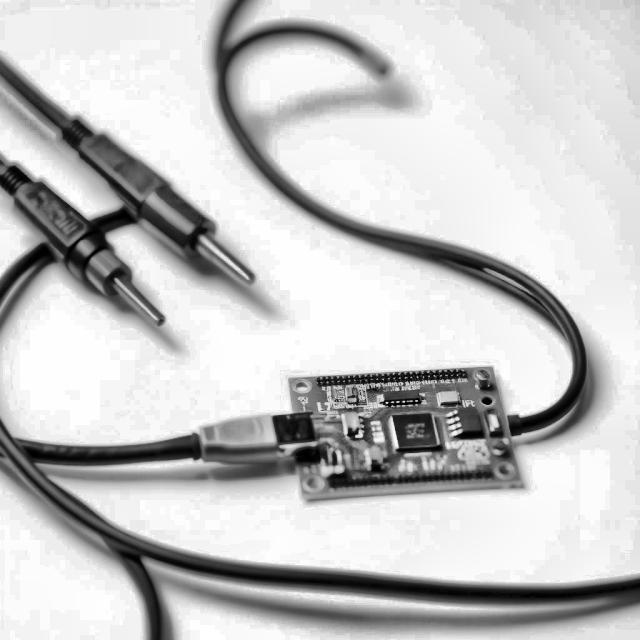Cable: (0, 0, 640, 640)
PCB: (286, 365, 527, 505)
